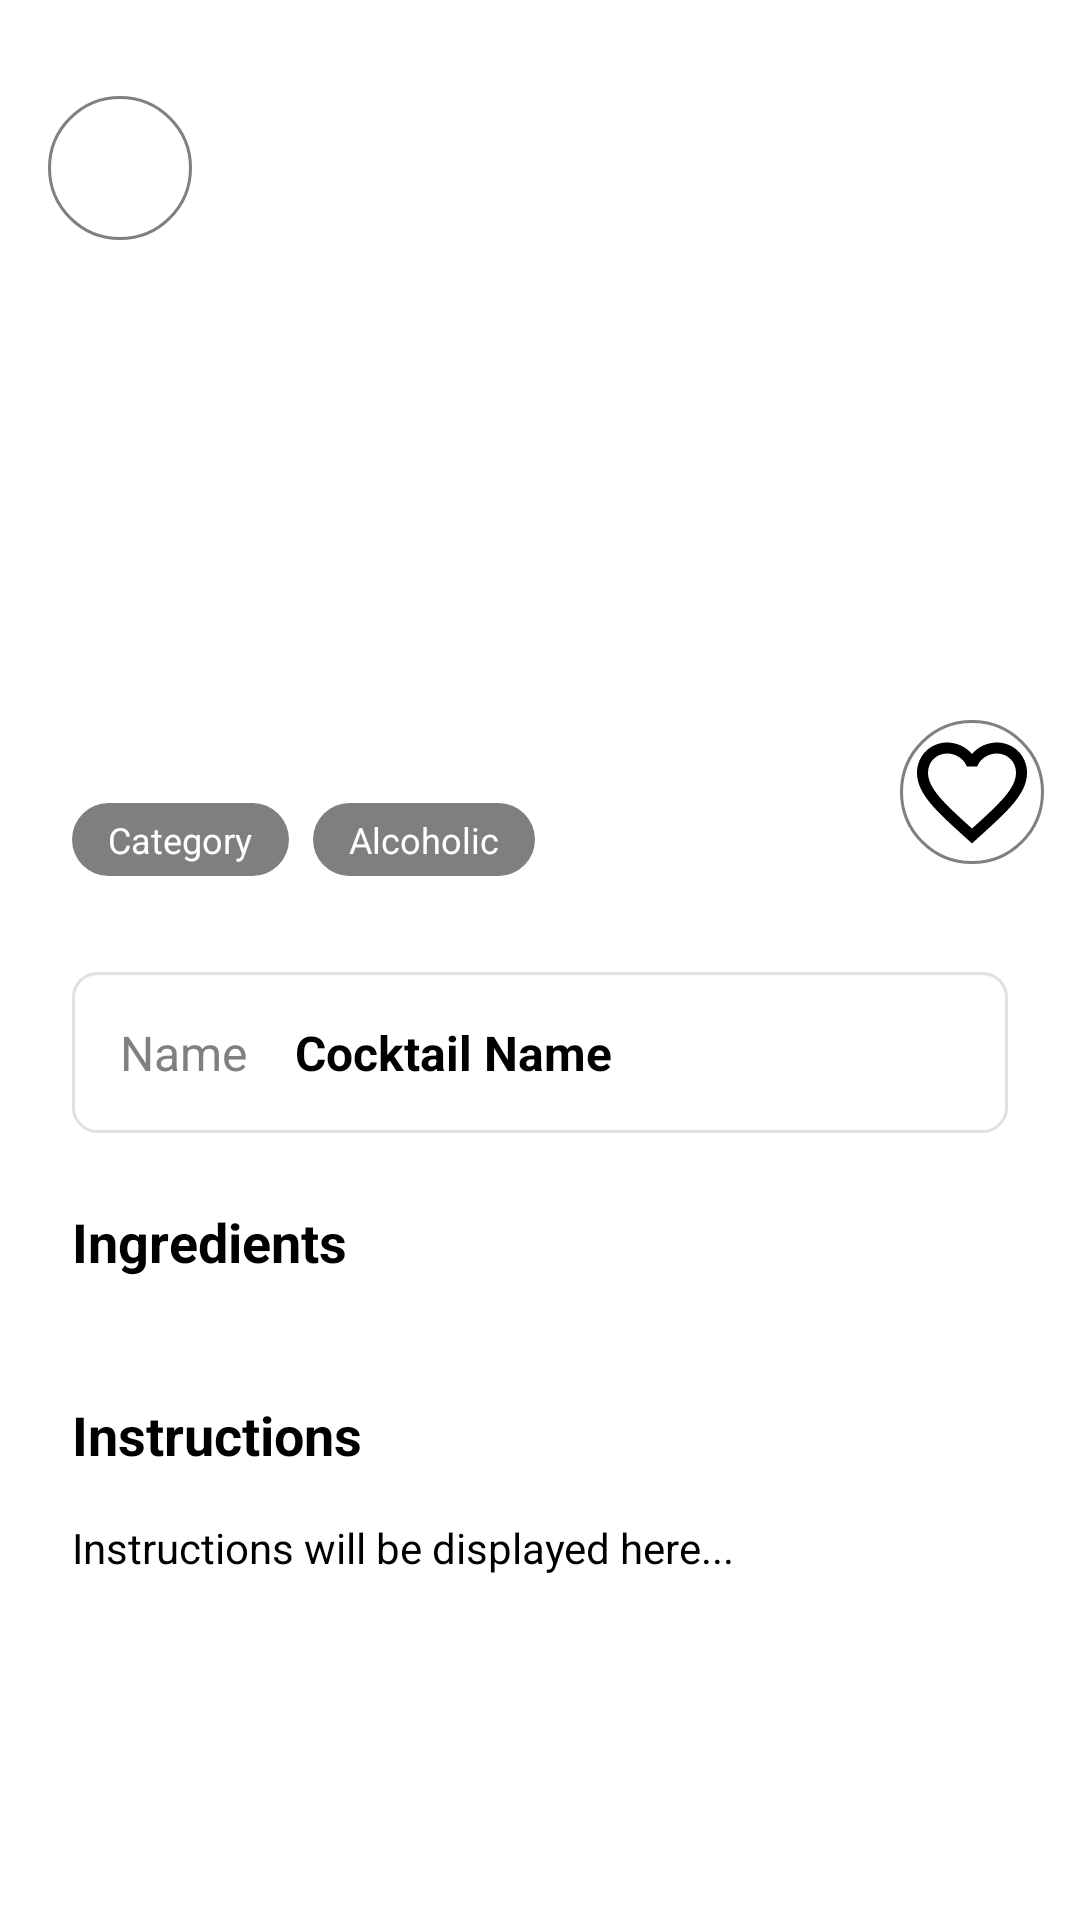

Named icons in this screenshot (1080x1920) and their bounding boxes, (x1, y1, x2, y2):
Icon yêu thích: (900, 720, 1044, 864)
